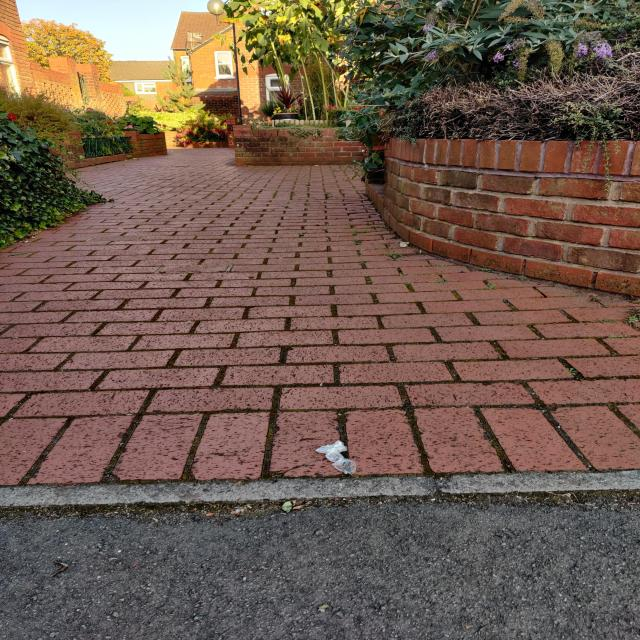litter: (315, 440, 357, 475)
